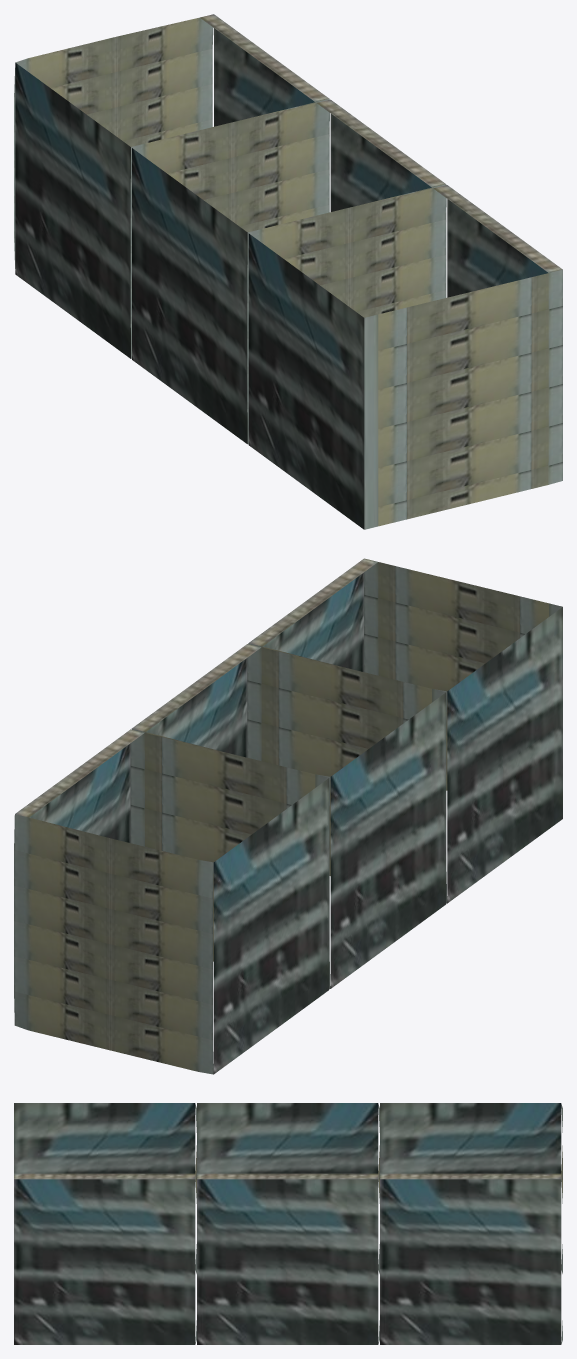
3 renders of one model, top to bottom at view 1: azimuth 30°, elevation 25°; view 2: azimuth 150°, elevation 25°; view 3: azimuth 270°, elevation 25°, orthographic. The views are drawn at different scales.
Parts seen in each view (by area): view 1: orto-edificio22-completo.052; view 2: orto-edificio22-completo.052; view 3: orto-edificio22-completo.052.
Boxes of the visible parts, box(x1,y1,x2,y2) form: orto-edificio22-completo.052: box(14, 14, 562, 529); orto-edificio22-completo.052: box(14, 558, 562, 1074); orto-edificio22-completo.052: box(14, 1103, 562, 1344).
Size of the model in its own units: 2.05 by 2.09 by 6.25.
Materials: 2 (2 with a texture image).
